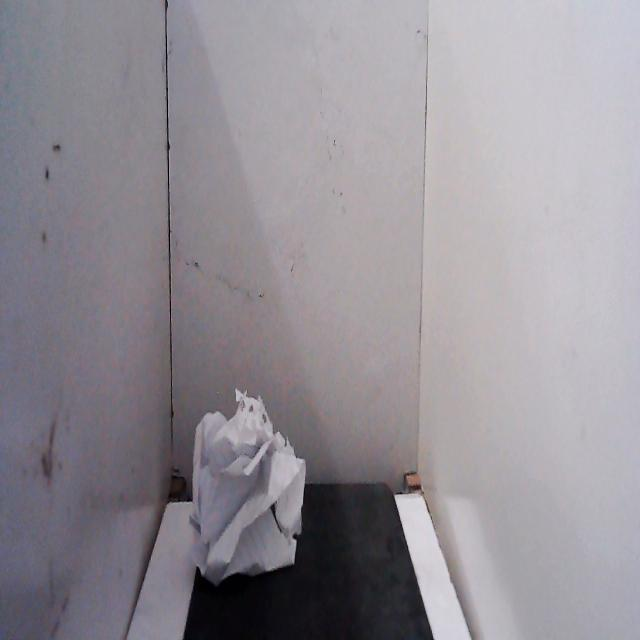papel: (184, 380, 310, 590)
